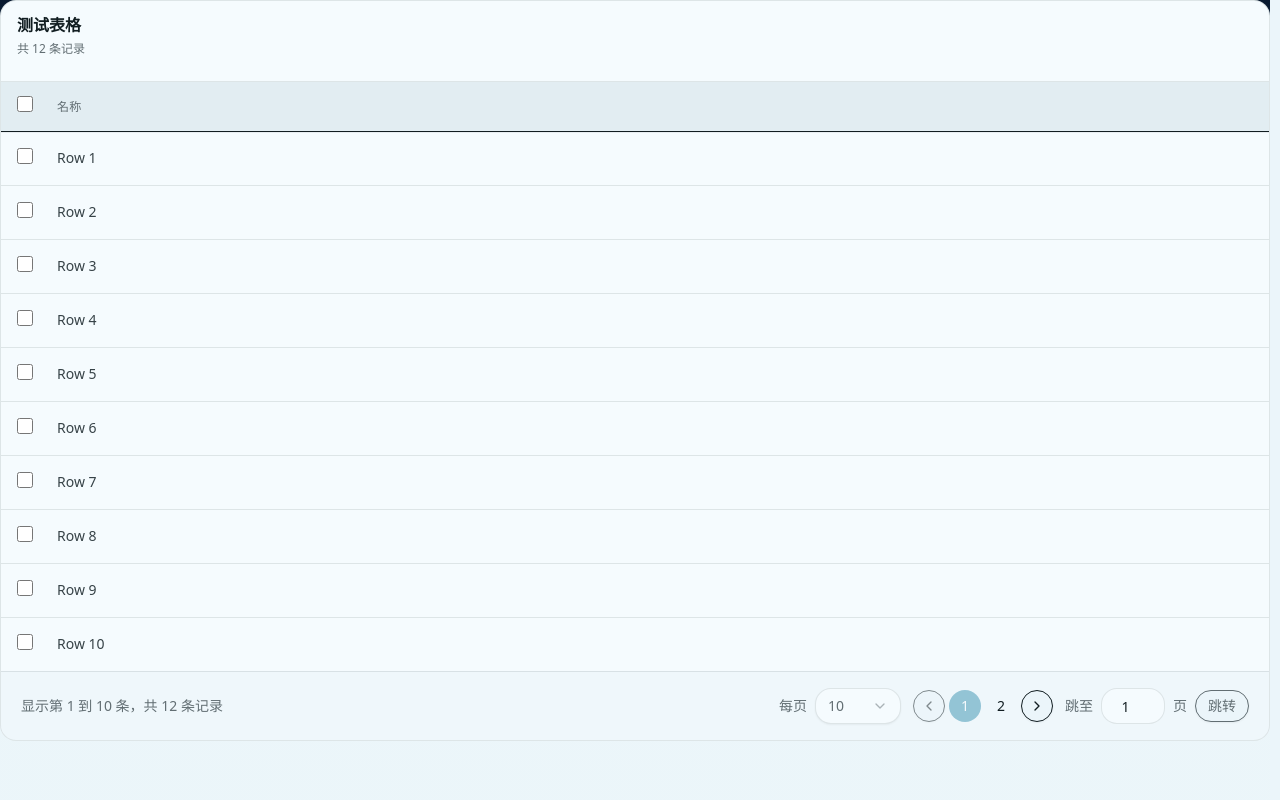
Scenario: DataTable › supports jumping to a specific page
Expected: the text "Row 11" is not shown
Replace the text in the number field named "跳转页码" with "2". click: (1133, 706)
box: top-left (1101, 688), bottom-right (1165, 724)
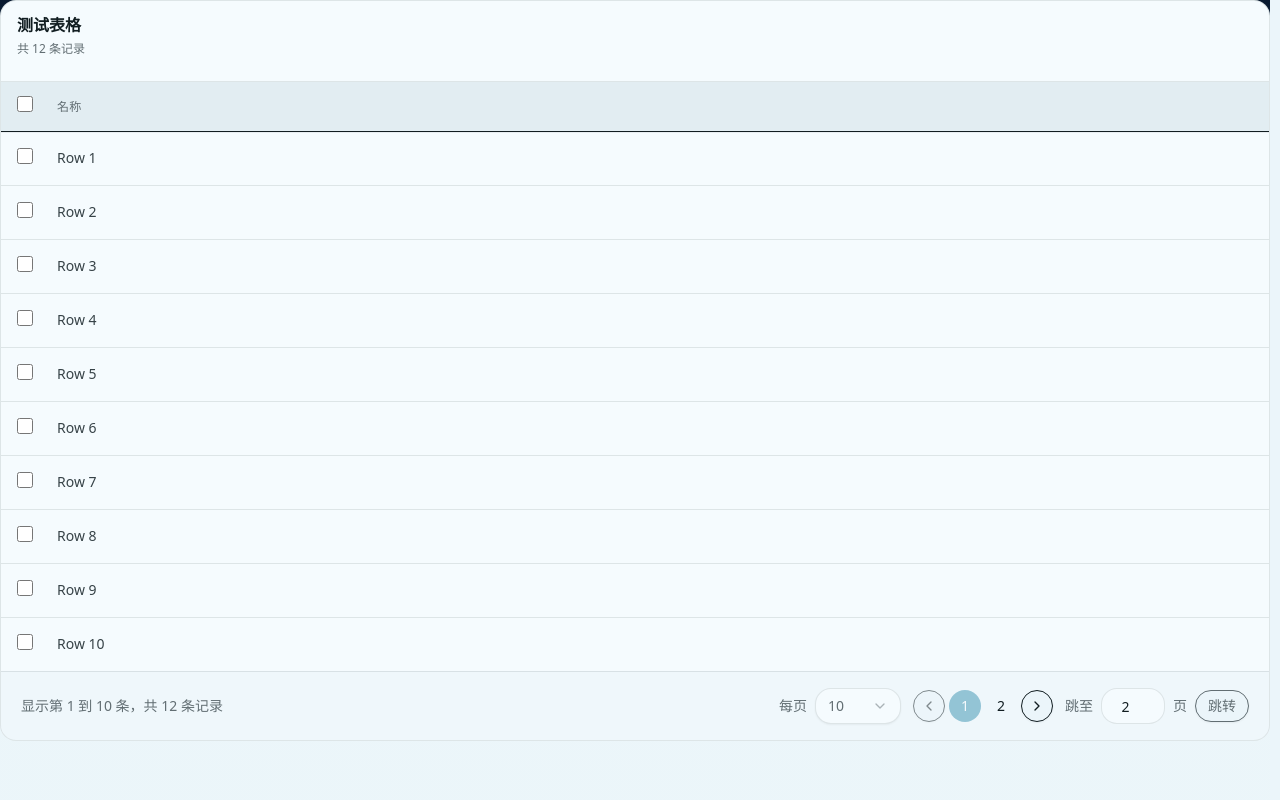
Click the button "跳转". click: click(1222, 706)
box: top-left (1195, 690), bottom-right (1249, 722)
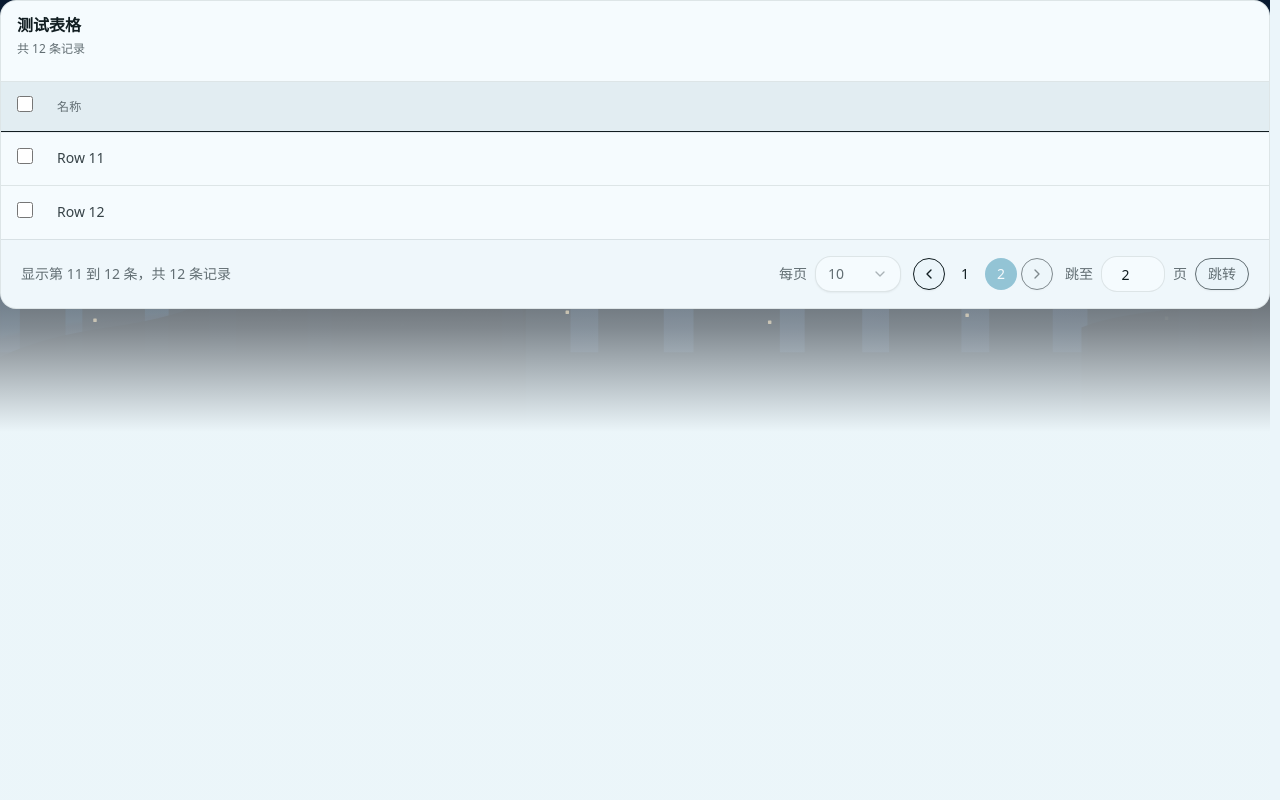
Expected: the text "Row 11" is shown, top-left (49, 132), bottom-right (1269, 186)
Expected: the text "显示第 11 到 12 条，共 12 条记录" is shown, top-left (21, 264), bottom-right (231, 284)
